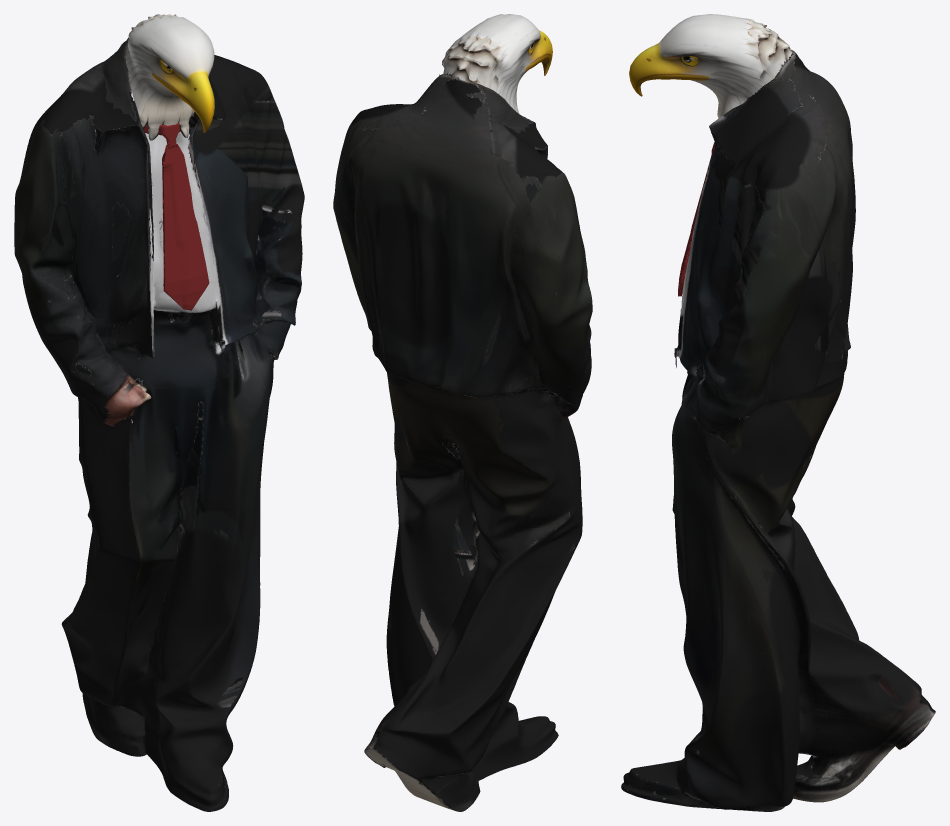
Rendered from guy.fbx.
3 views of the same model, side by side, from view 1: azimuth 30°, elevation 25°; view 2: azimuth 150°, elevation 25°; view 3: azimuth 270°, elevation 25° (orthographic). The views are drawn at different scales.
Parts seen in each view (by area): view 1: model.001, model, model.002; view 2: model.001, model; view 3: model.001, model.
Part boxes in pixels (<box>): model.001: <box>14,37,304,811</box>; model: <box>125,14,214,140</box>; model.002: <box>143,123,209,310</box>; model.001: <box>333,74,592,811</box>; model: <box>442,14,552,113</box>; model.001: <box>621,50,935,811</box>; model: <box>629,14,792,118</box>.
Bounding box in the file's own units: 64.02 × 176 × 64.8.
3 materials, 3 textured.
